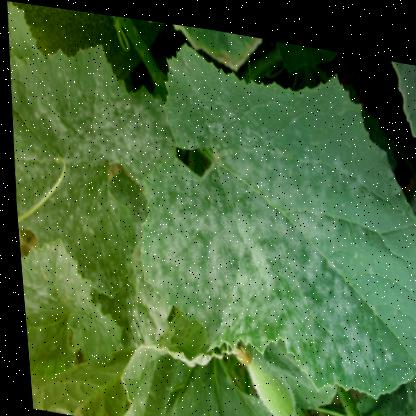PowderyMildew: (231, 168, 338, 310), (43, 78, 162, 166), (156, 179, 239, 296)
